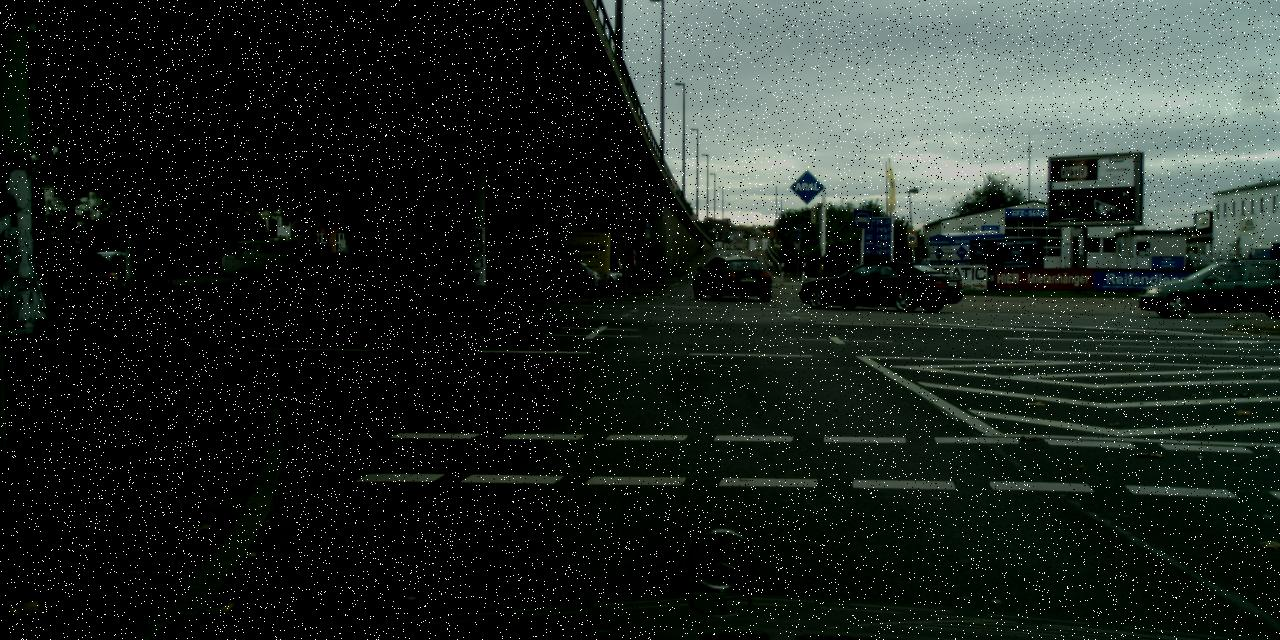ped: (486, 244, 501, 284), (298, 241, 312, 275)
